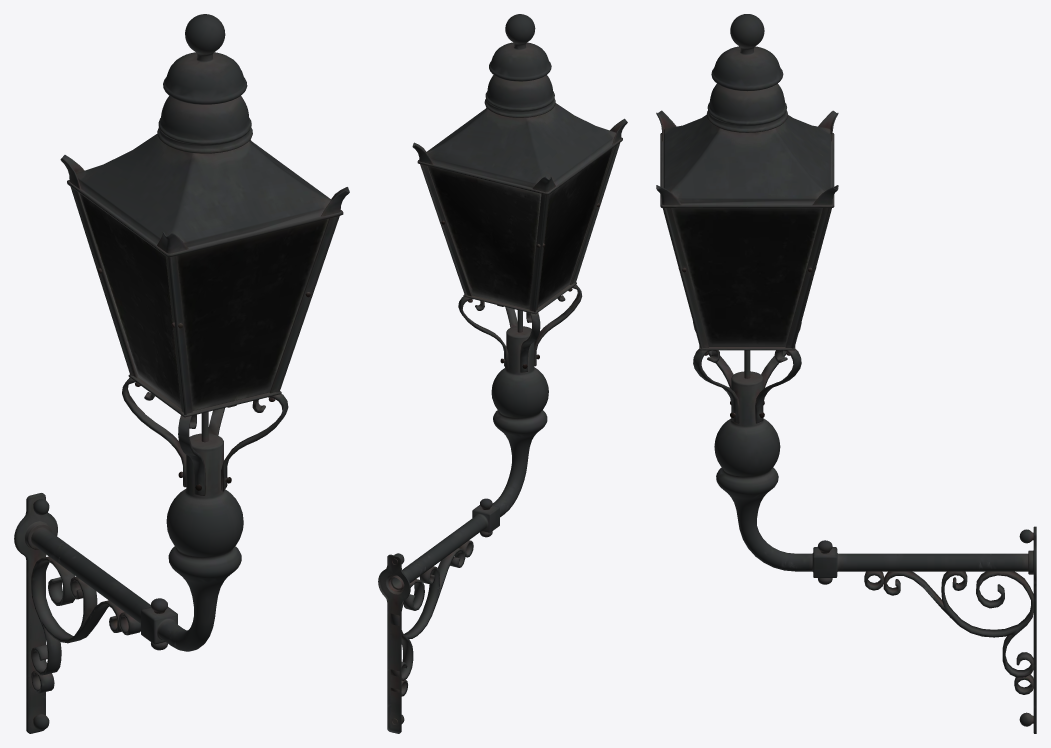
The model's file is street_lamp_02.glb.
3 views of the same model, side by side, from view 1: azimuth 30°, elevation 25°; view 2: azimuth 150°, elevation 25°; view 3: azimuth 270°, elevation 25° (orthographic). The views are drawn at different scales.
Visible parts, largest first — view 1: street_lamp_02; view 2: street_lamp_02; view 3: street_lamp_02.
Part boxes in pixels (left/top/right/bottom): street_lamp_02: left=14, top=14, right=349, bottom=733; street_lamp_02: left=378, top=14, right=627, bottom=733; street_lamp_02: left=656, top=14, right=1036, bottom=733.
Size of the model in its own units: 0.3865 by 1.68 by 0.8067.
Materials: 2 (2 with a texture image).
